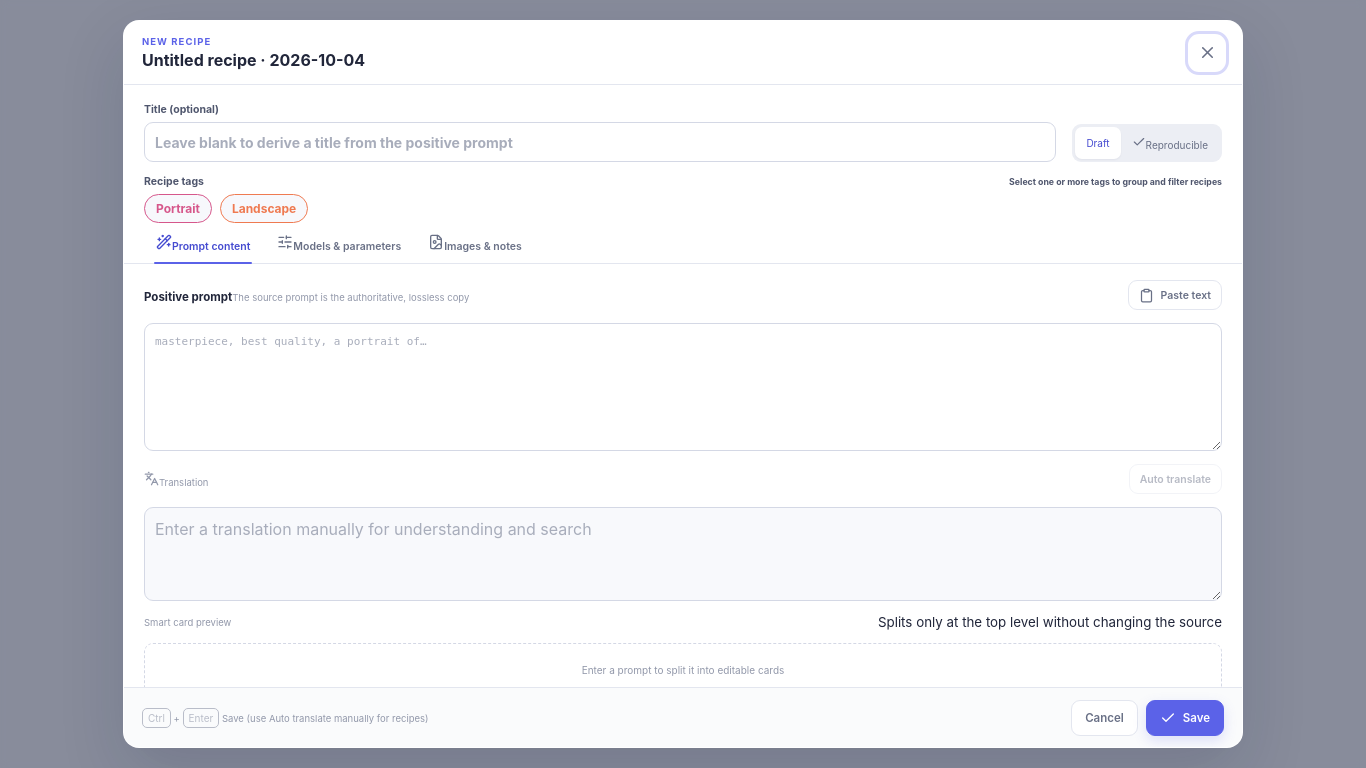
Test: RecipeEditor save and resource selection › can apply recommended parameters and clear every field again
Click the button "Models & parameters" at (339, 243), box [265,223,413,263]
(page scrolled)
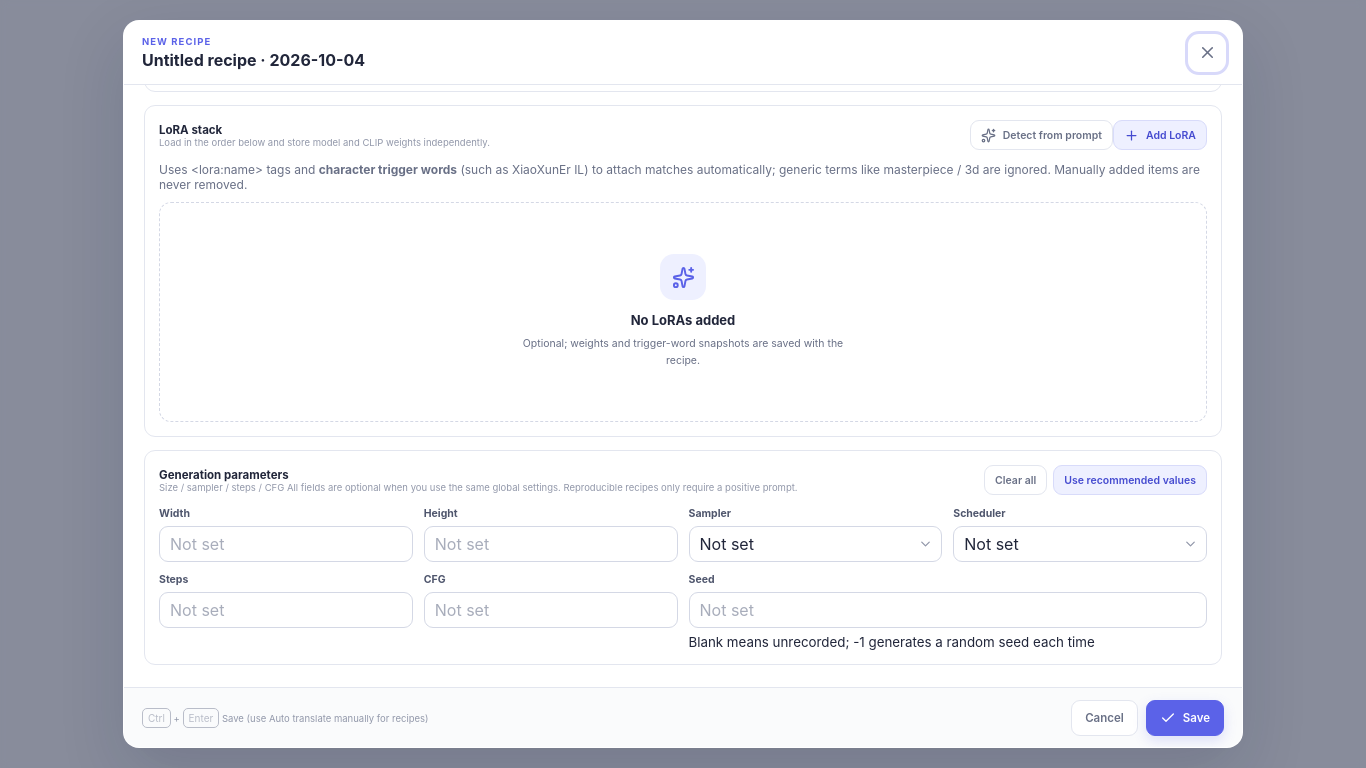
Check: the number field labelled "Width" is not empty, box [159,526,413,562]
Check: the dropdown labelled "Sampler" shows "Not set", box [688,526,942,562]
Click the button "Use recommended values" at (1130, 480), box [1053,465,1207,495]
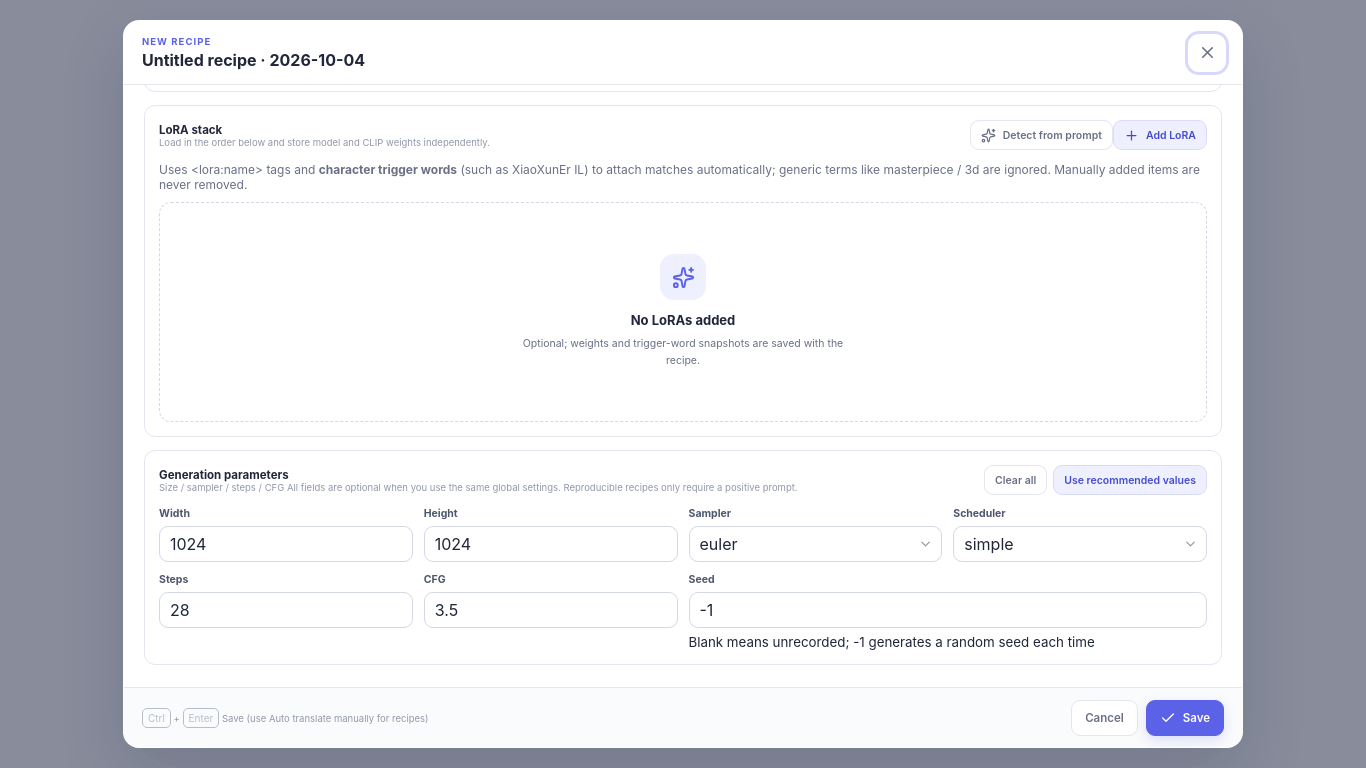
Check: the number field labelled "Width" holds "1024", box [159,526,413,562]
Check: the dropdown labelled "Sampler" shows "euler", box [688,526,942,562]
Check: the number field labelled "CFG" holds "3.5", box [424,592,678,628]
Click the button "Clear all" at (1016, 480), box [984,465,1047,495]
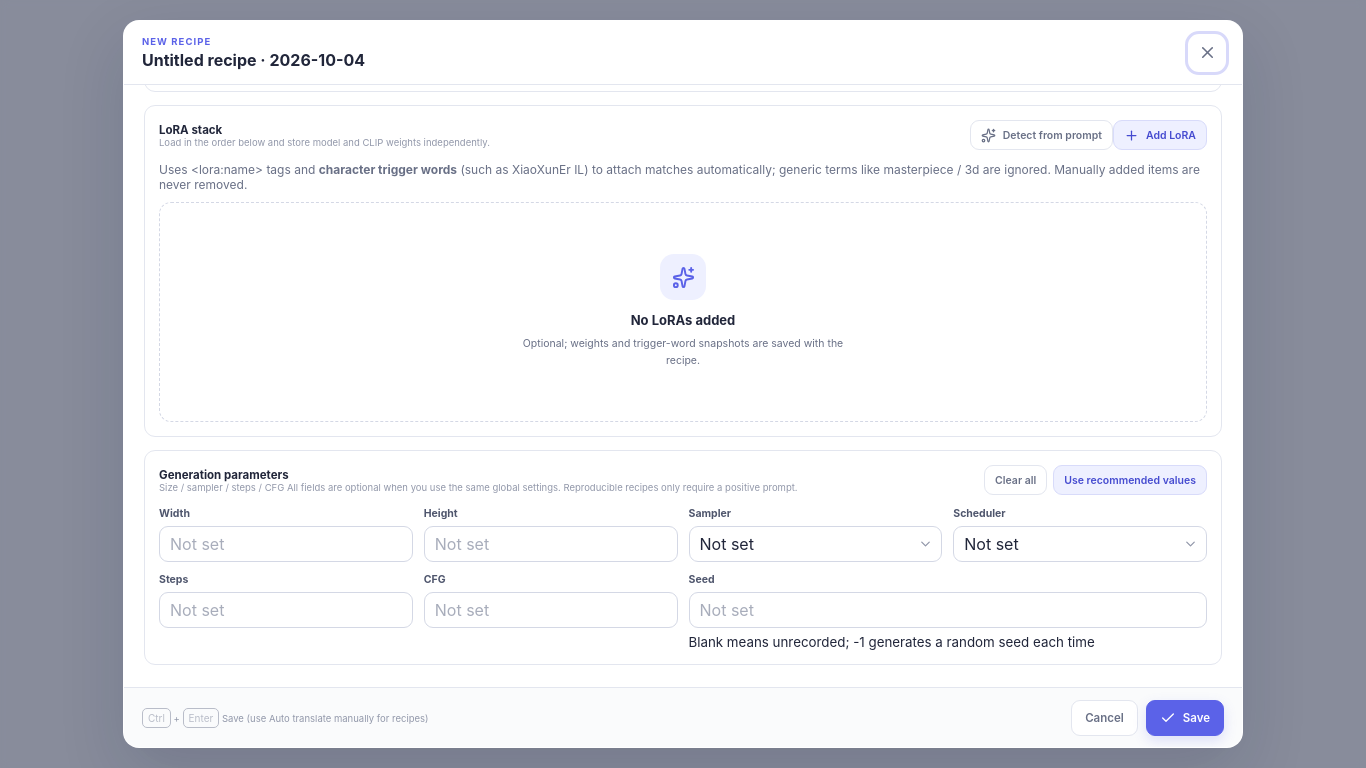
Check: the number field labelled "Width" is not empty, box [159,526,413,562]
Check: the dropdown labelled "Sampler" shows "Not set", box [688,526,942,562]
Check: the field labelled "Seed" is empty, box [688,592,1207,628]
